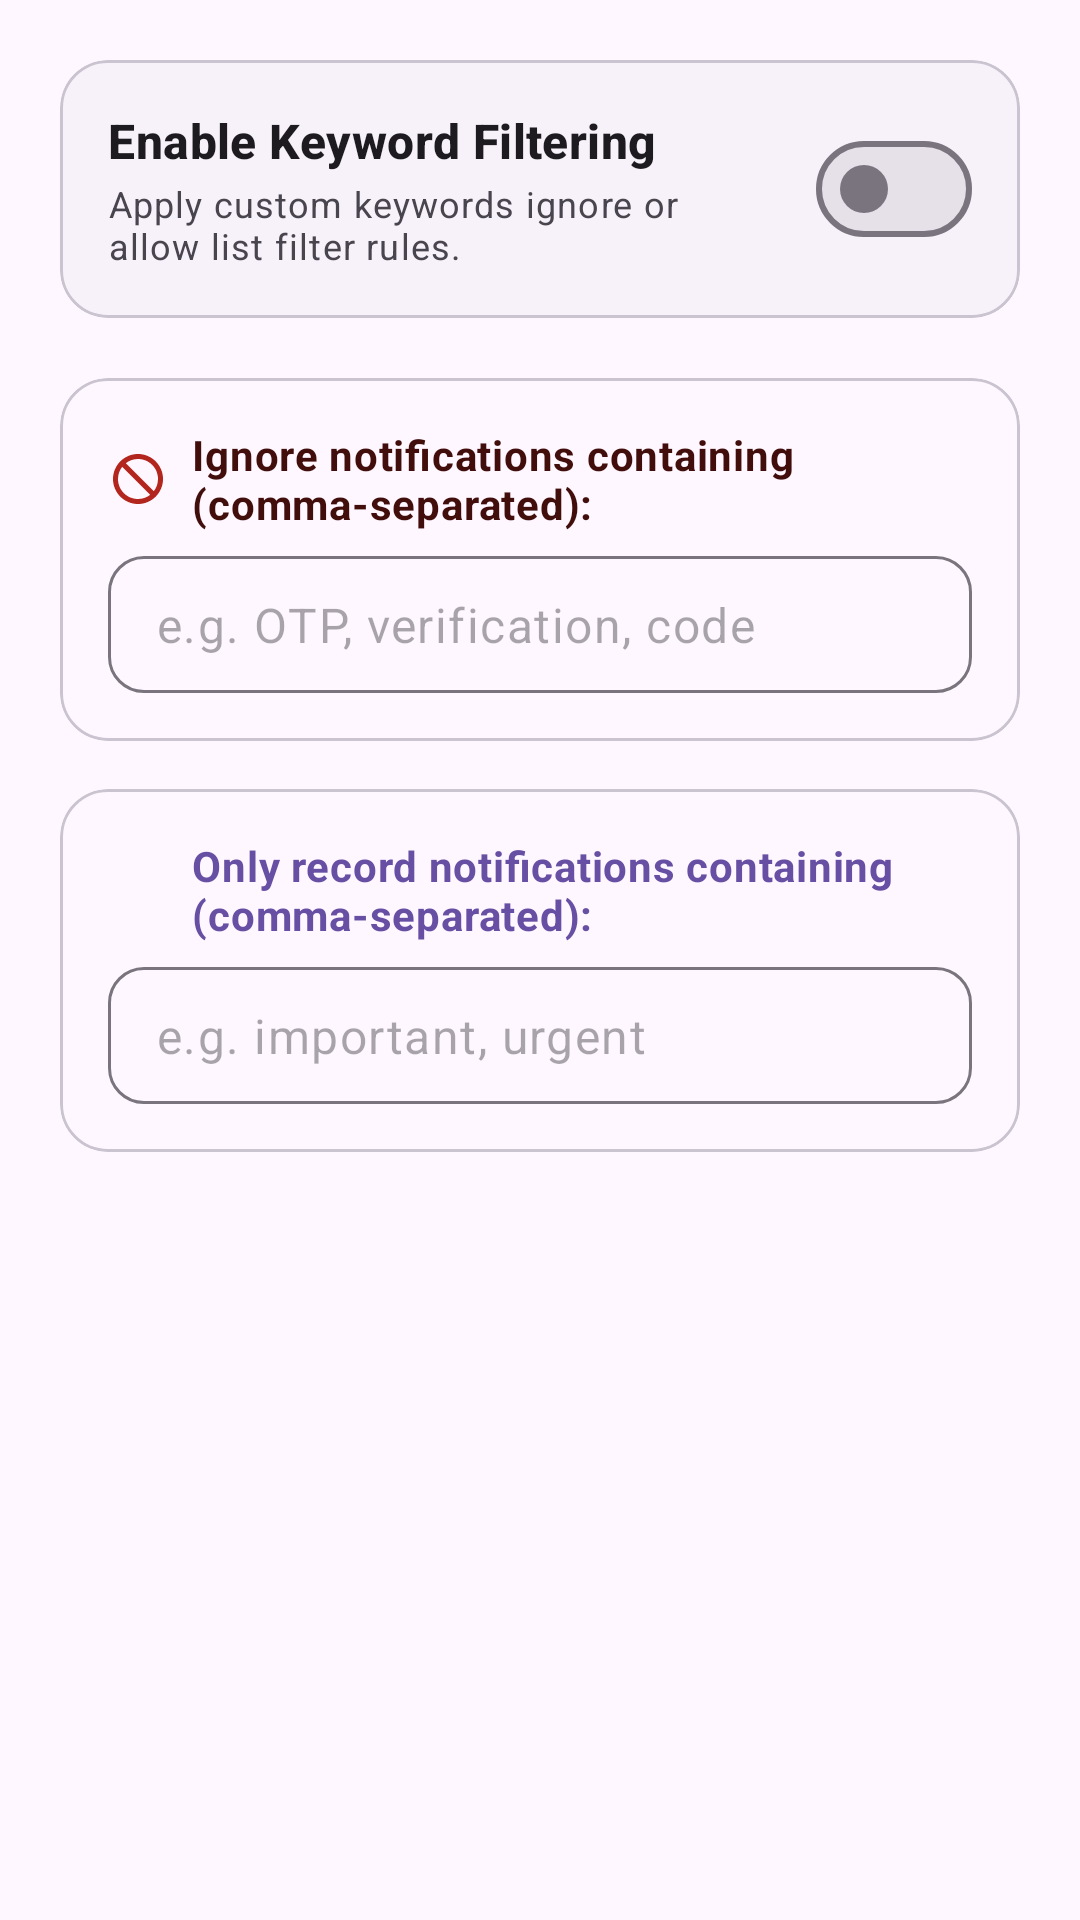

Icon bounding boxes for this 1080 × 1920 phone screenshot, format bbox(x1, y1, x2, y2):
block: bbox(113, 454, 163, 504)
